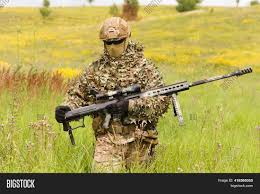gun: (61, 63, 255, 151)
